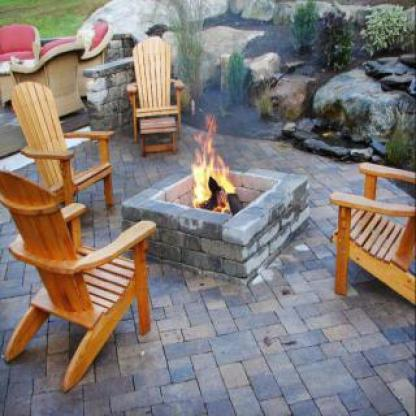fire: (190, 113, 232, 208)
